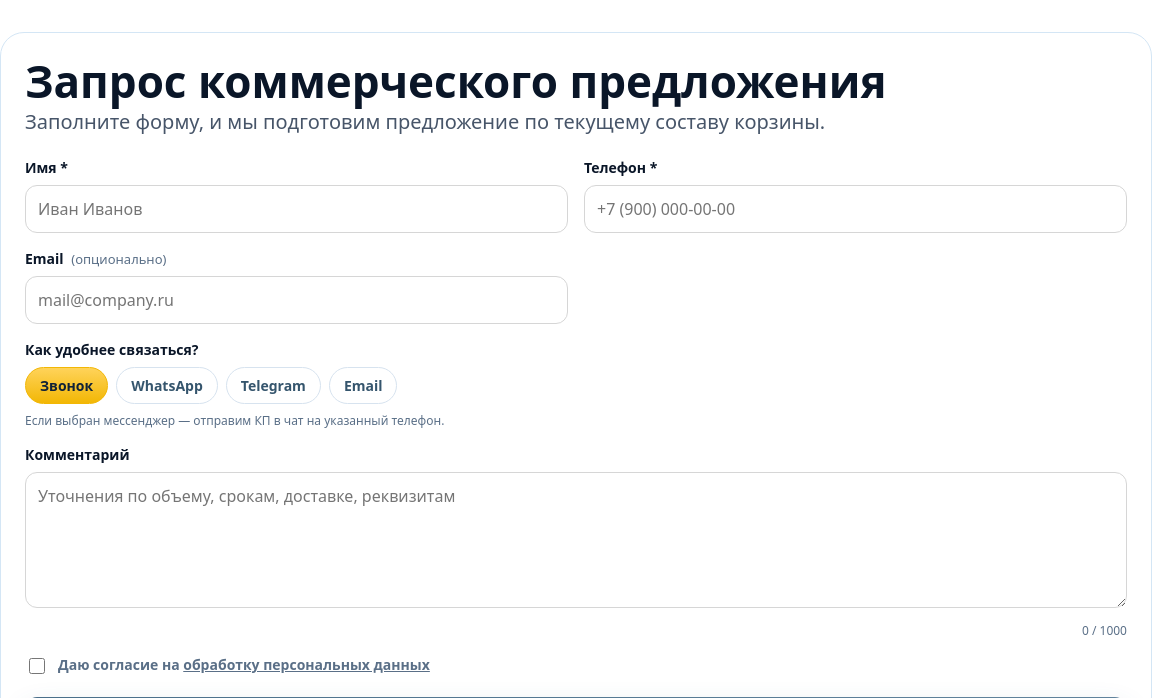
QuoteForm render flow › показывает success-сообщение после успешной отправки
Type "Иван Петров" into the field labelled "Имя *". click: (296,209)
box: [25,185,568,233]
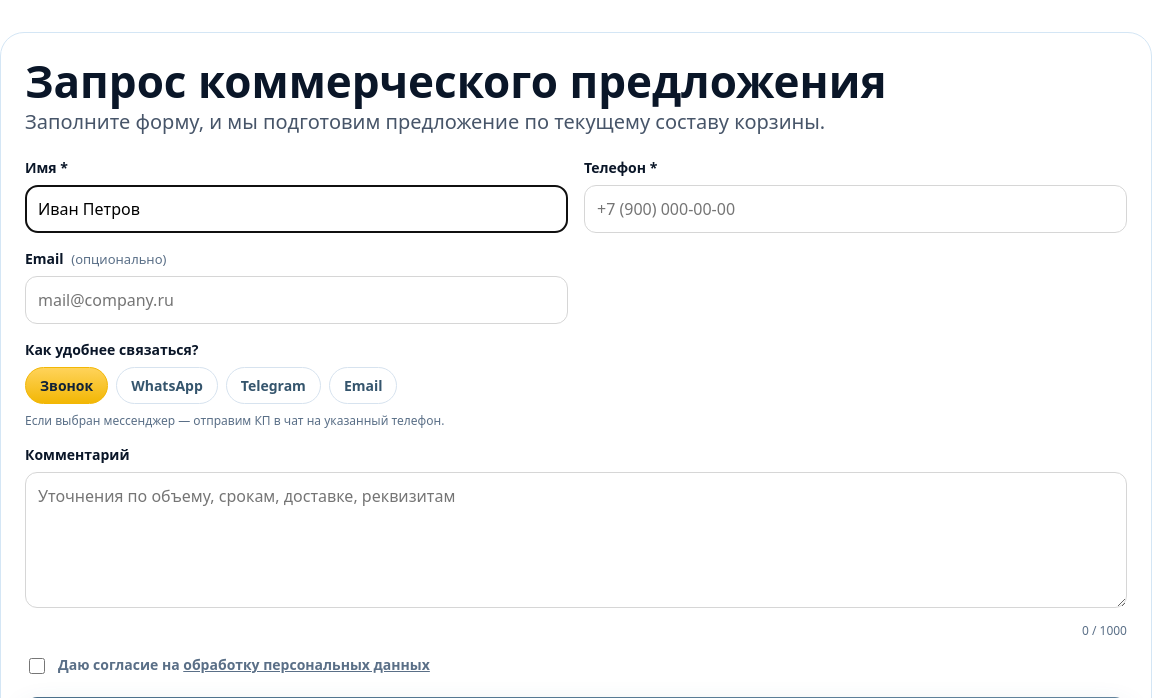
Type "+7 900 123-45-67" into the field labelled "Телефон *". click: (856,209)
box: [584,185,1127,233]
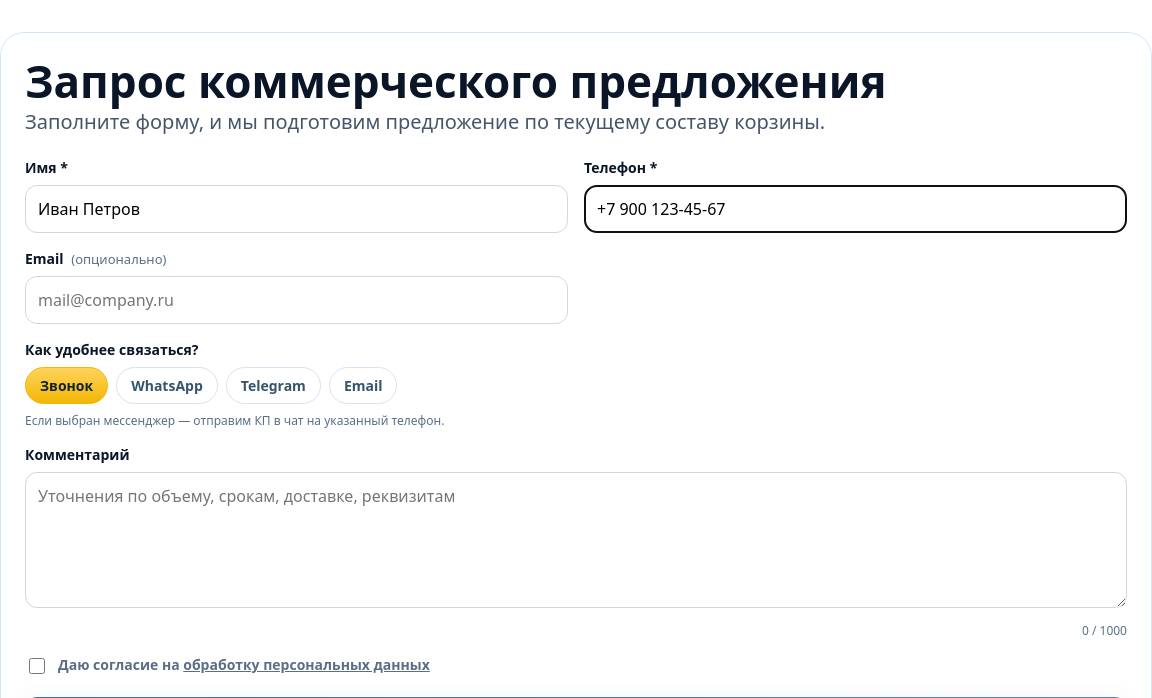
Click the checkbox labelled "Даю согласие на обработку персональных данных". click: (37,666)
box: [29,658,45,674]
(page scrolled)
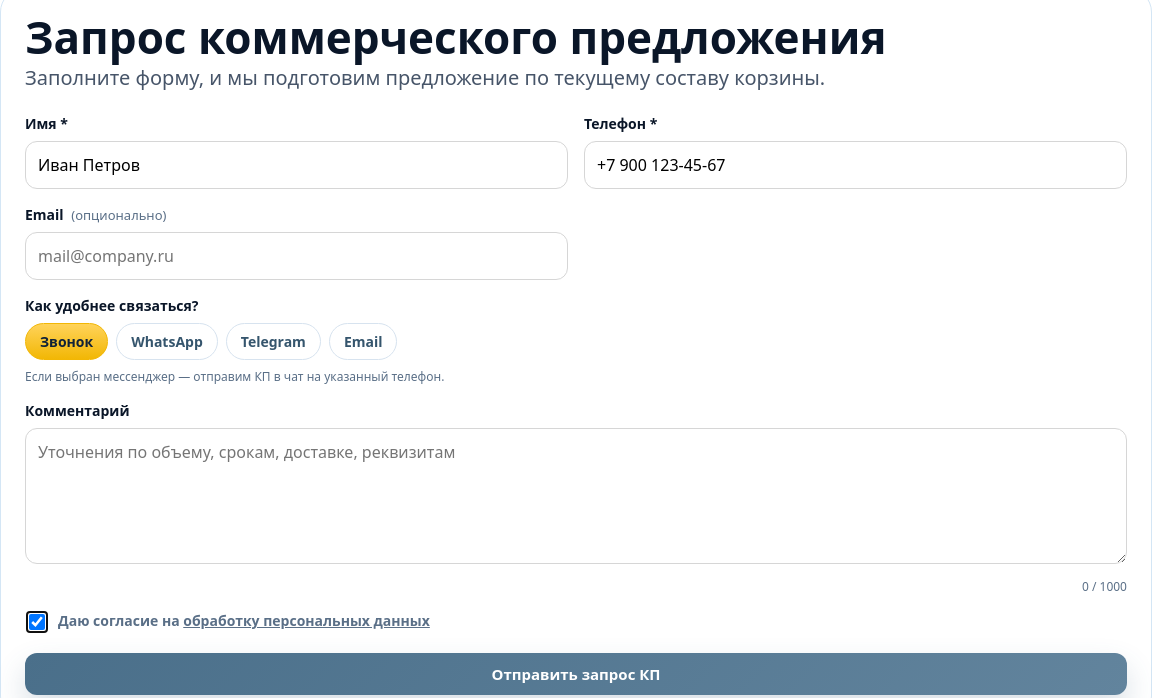
Click the button "Отправить запрос КП". click: (576,674)
box: [25,653,1127,695]
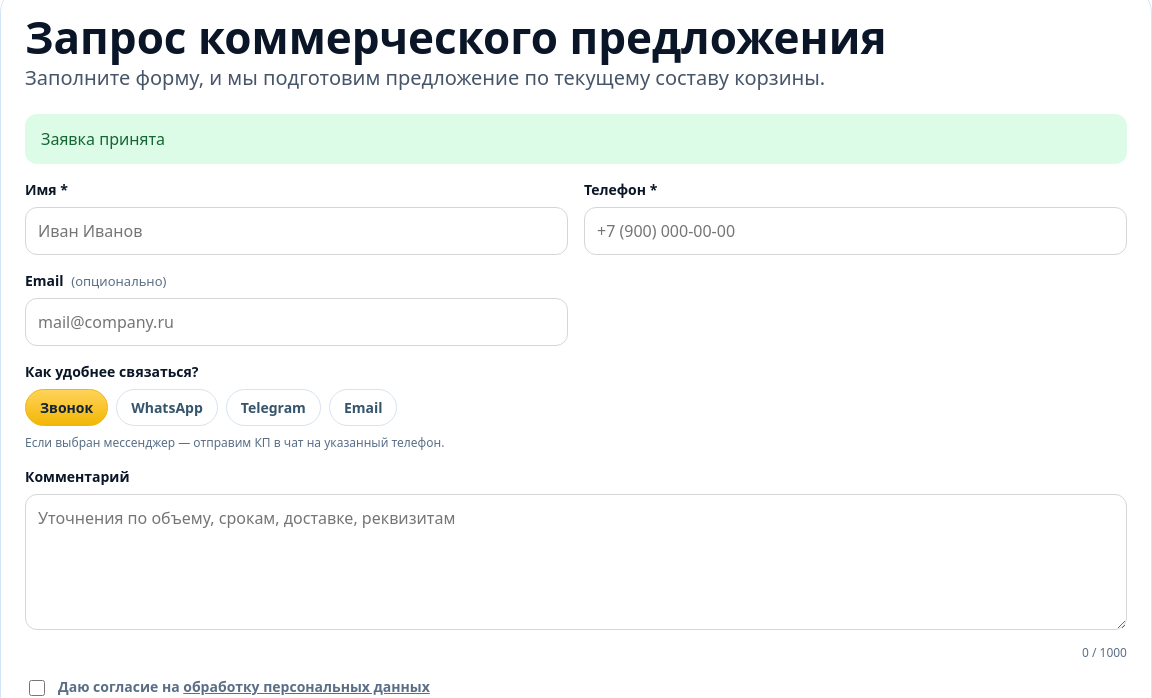
Check: the text "Заявка принята" is shown, box [25,114,1127,164]
